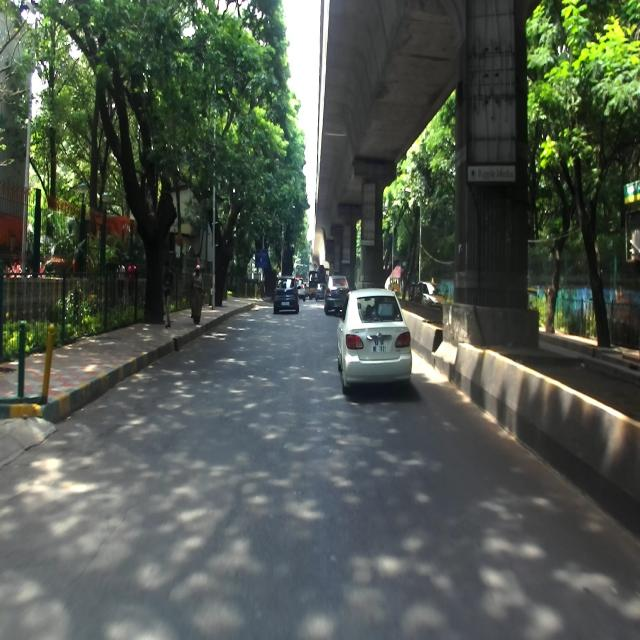car: (336, 287, 413, 395)
